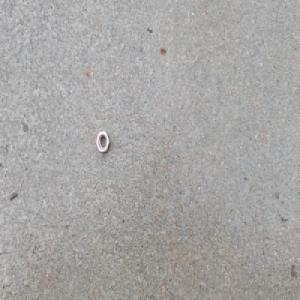Nut: (95, 130, 109, 153)
